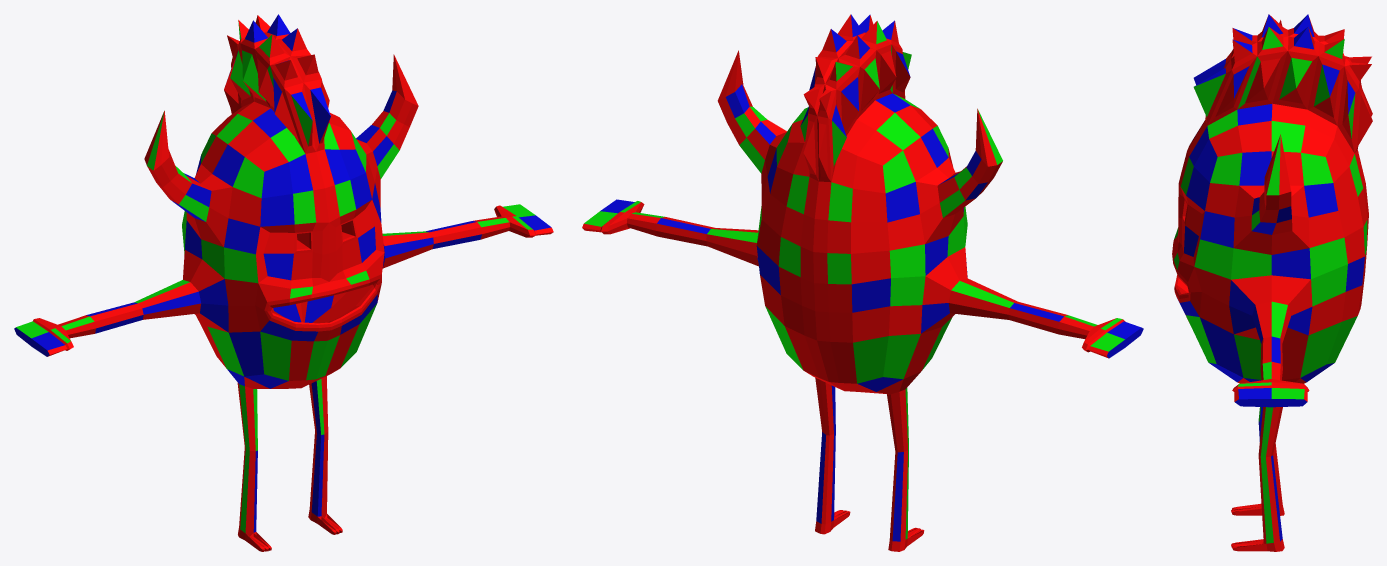
File: LargePaintMonster.fbx
3 views of the same model, side by side, from view 1: azimuth 30°, elevation 25°; view 2: azimuth 150°, elevation 25°; view 3: azimuth 270°, elevation 25° (orthographic). The views are drawn at different scales.
Visible parts, largest first — view 1: Monster; view 2: Monster; view 3: Monster.
Boxes of the visible parts, x1=… form: Monster: x1=14, y1=14, x2=553, y2=551; Monster: x1=582, y1=14, x2=1143, y2=551; Monster: x1=1172, y1=14, x2=1372, y2=551.
Size of the model in its own units: 3266 by 3087 by 1100.
